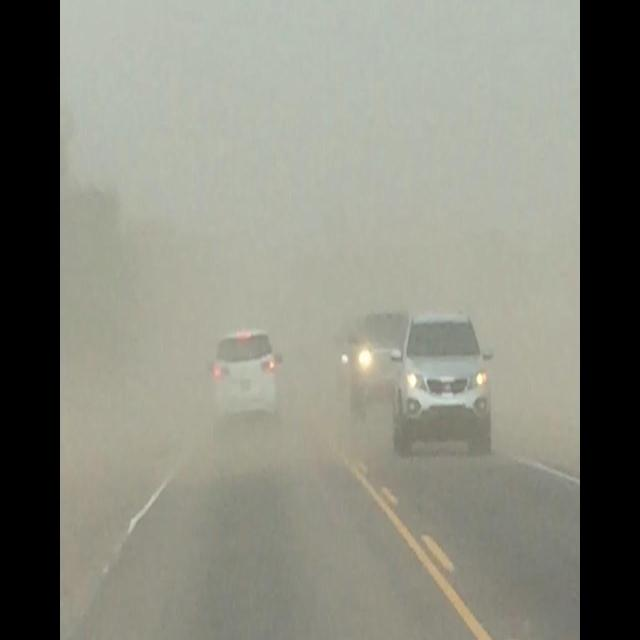Car: (392, 293, 493, 459), (208, 300, 280, 437), (350, 295, 408, 413)
